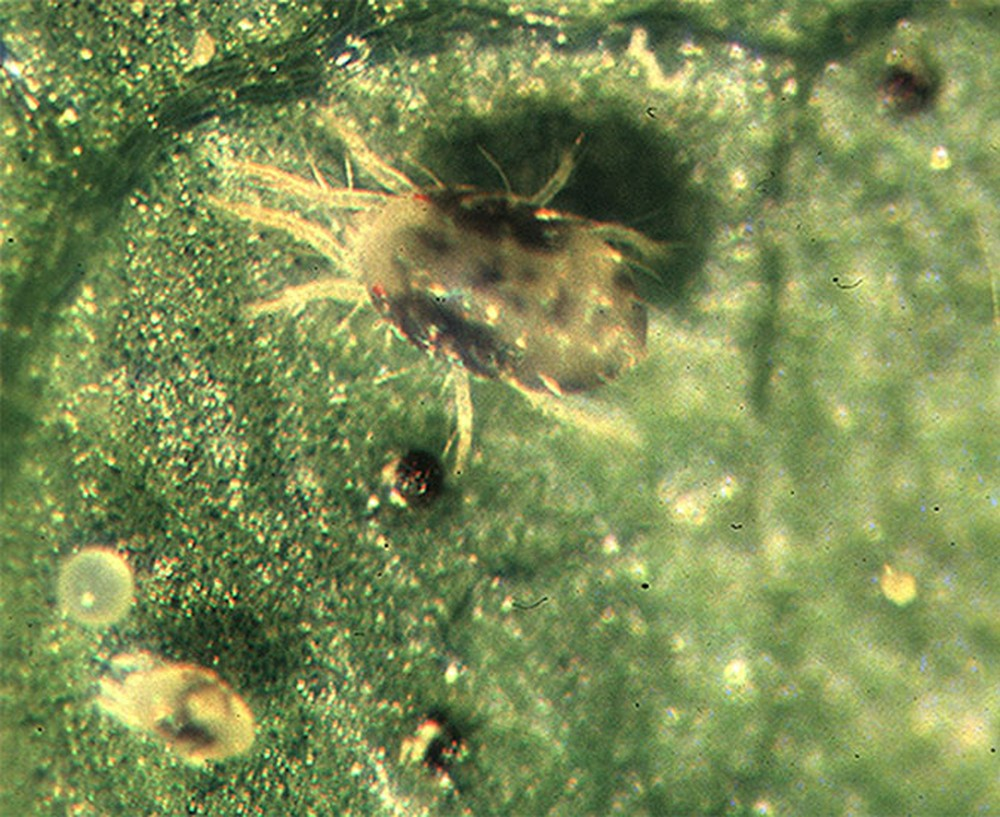Aracnido Rojo: (213, 124, 713, 470)
